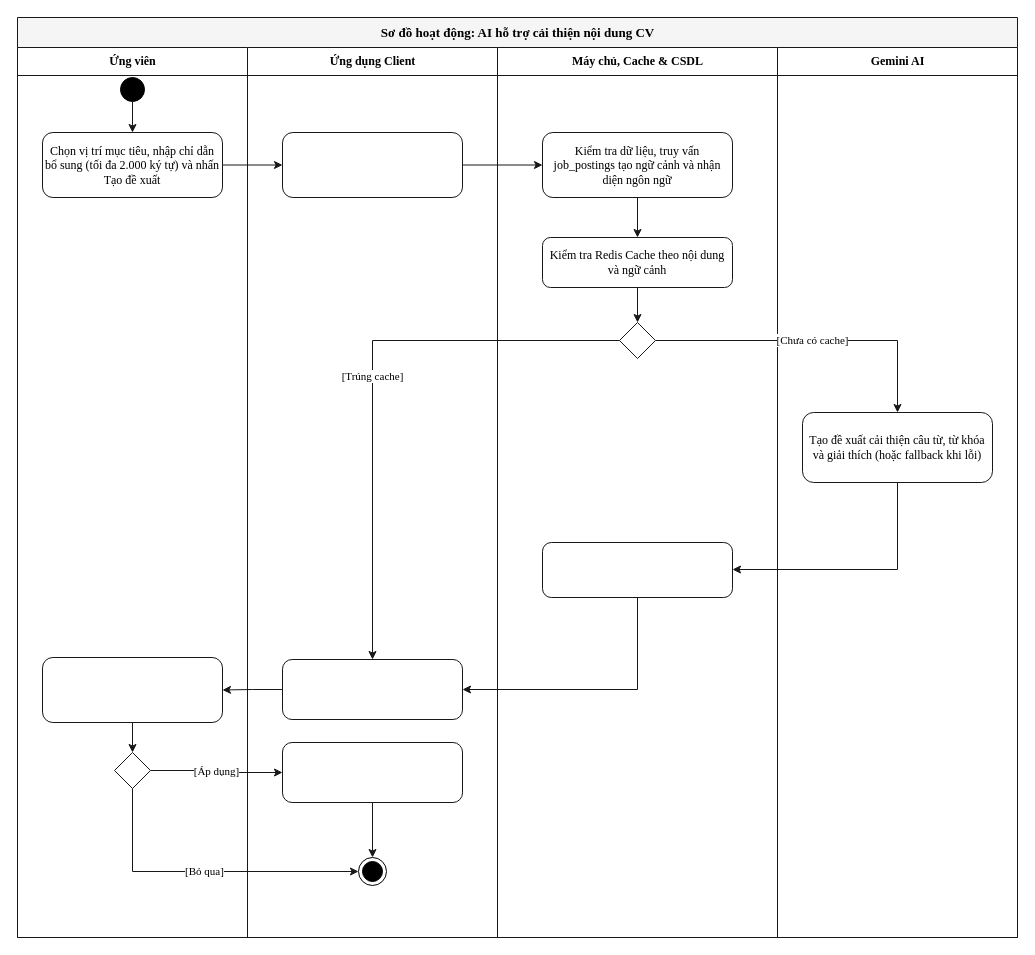
This 1035x955 diagram has some shape labels left out. The centre of each missing label's shape, as x and y in pixels:
Gửi các mục CV đang biên soạn trong yêu cầu hàng loạt (hoặc đơn lẻ / SSE): (372,165)
Hiển thị khung so sánh nội dung cải thiện, từ khóa và giải thích: (372,689)
Lưu cache kết quả hợp lệ (12 giờ với batch, 24 giờ với đơn lẻ): (637,570)
Đưa nội dung đã chọn vào trình biên soạn (chỉ lưu khi bấm Lưu CV): (372,772)
Đối chiếu nội dung hiện tại với đề xuất và chọn Áp dụng hoặc Bỏ qua: (132,689)
